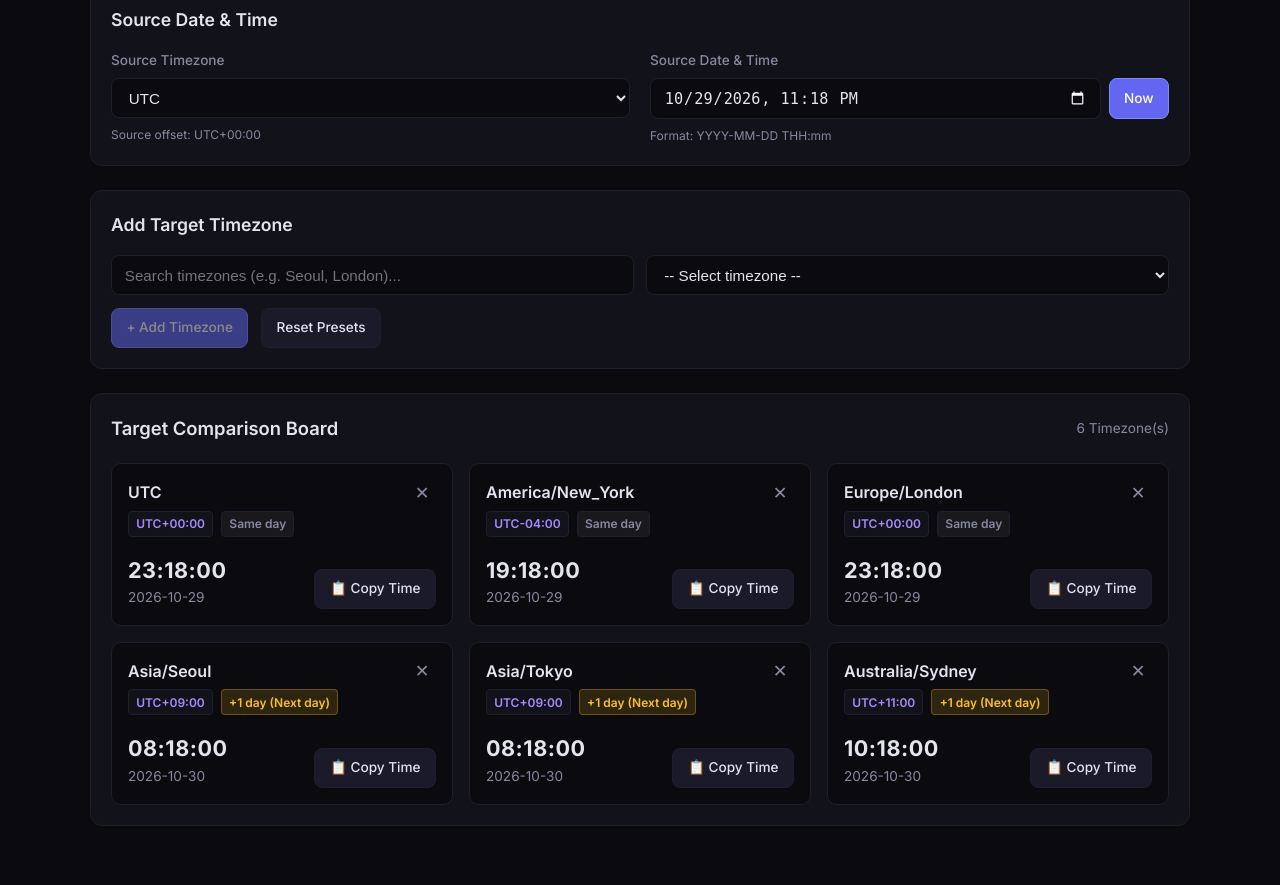
Test: TimezoneTool Component Tests › allows adding a new target timezone to the comparison list
Step 1. Select "America/Chicago" in the dropdown named "Select target timezone to add" → {"x": 908, "y": 275}, box [646, 255, 1169, 295]
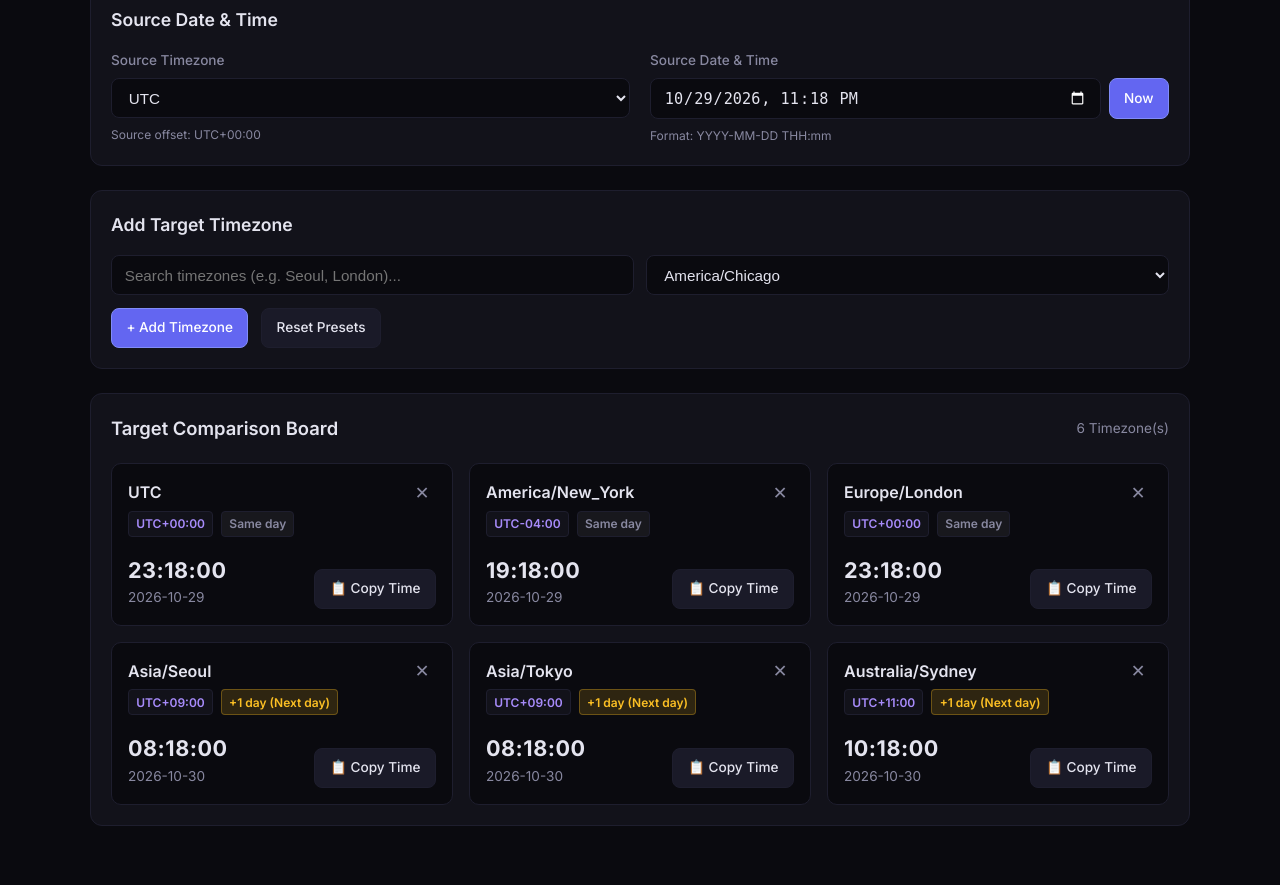
Step 2. Click the button with aria-label "Add selected timezone to comparison list" → {"x": 180, "y": 328}, box [111, 308, 248, 348]
(page scrolled)
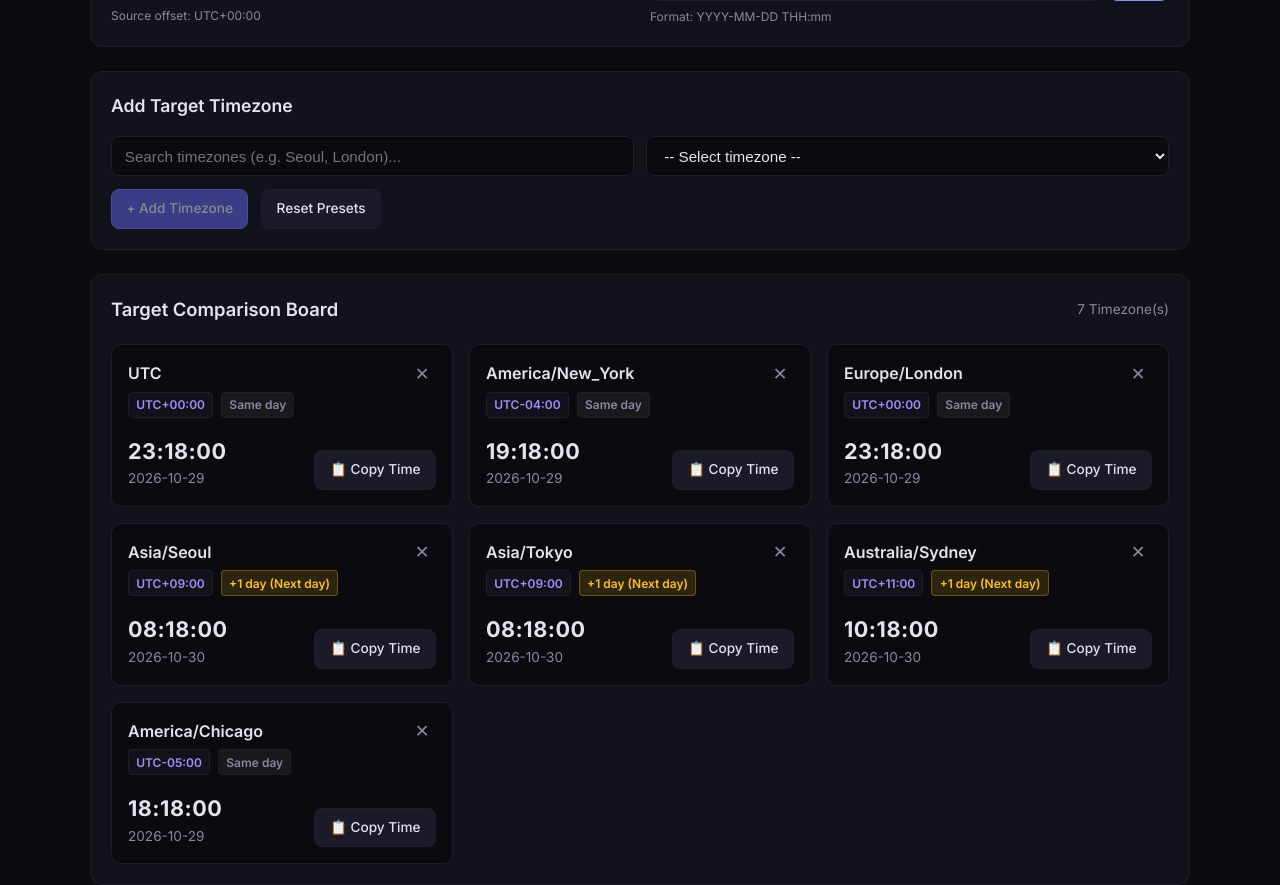
Expected: the heading "America/Chicago" is shown, [128, 721, 263, 741]
